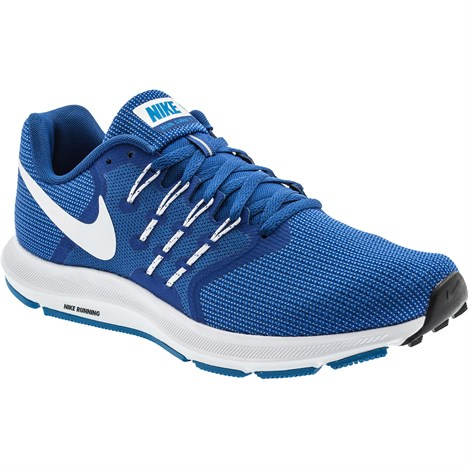nike: (21, 169, 121, 262)
